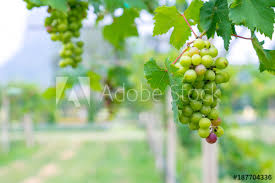grapes: (176, 39, 223, 147)
